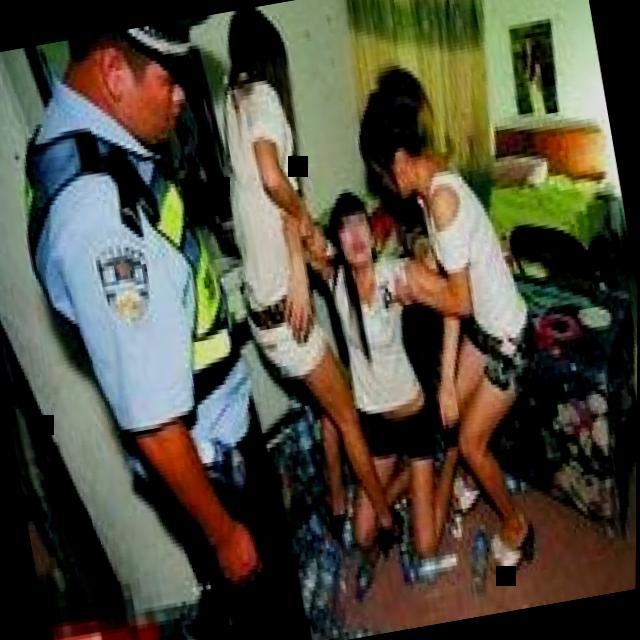Fall-Detected: (277, 155, 499, 600)
